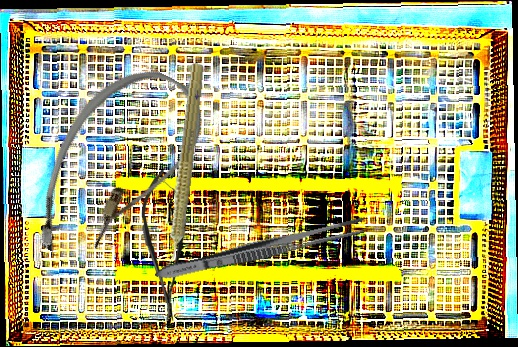Cannula: (14, 47, 219, 288)
Dressing Forceps: (152, 213, 369, 286)
Handpiece: (157, 61, 209, 278)
Micro Scissor: (138, 168, 192, 323)
